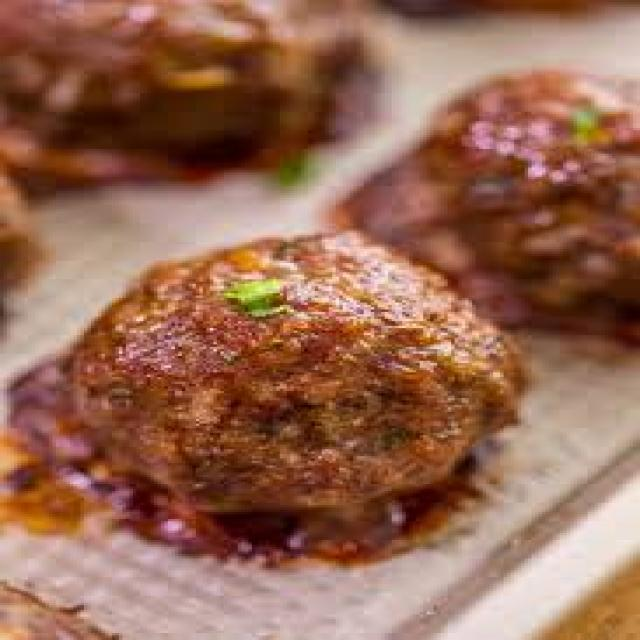Meatball: (59, 233, 534, 532)
